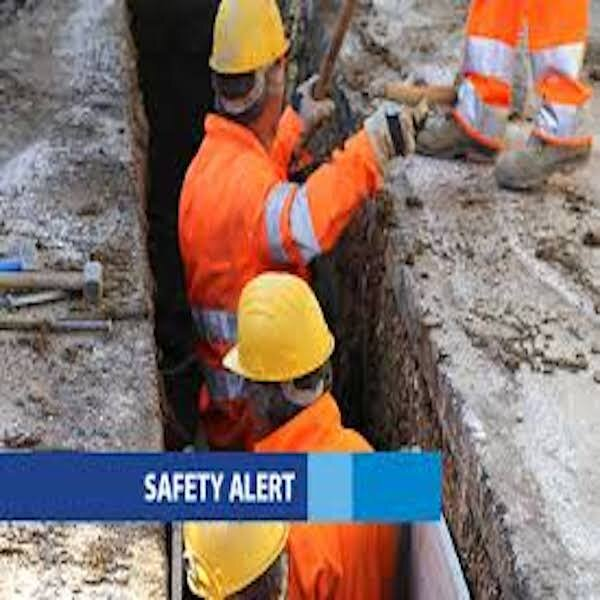helmet: (223, 274, 335, 378), (202, 5, 299, 76)
vest: (183, 113, 316, 320)
